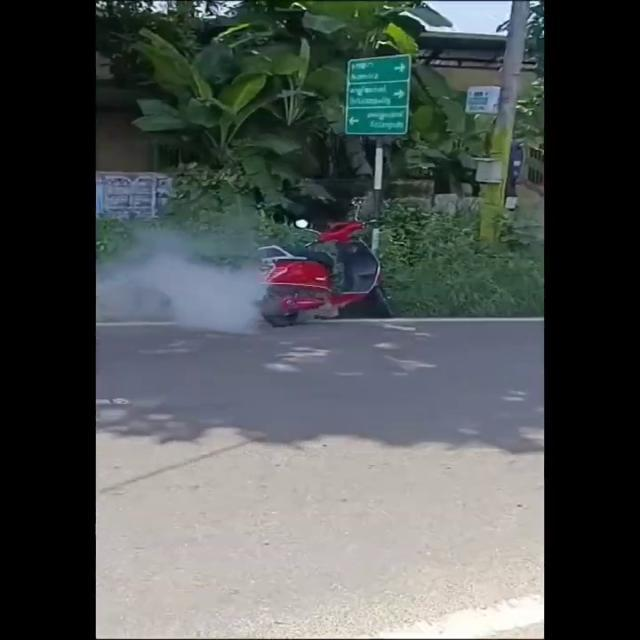Smoke: (96, 204, 278, 339)
